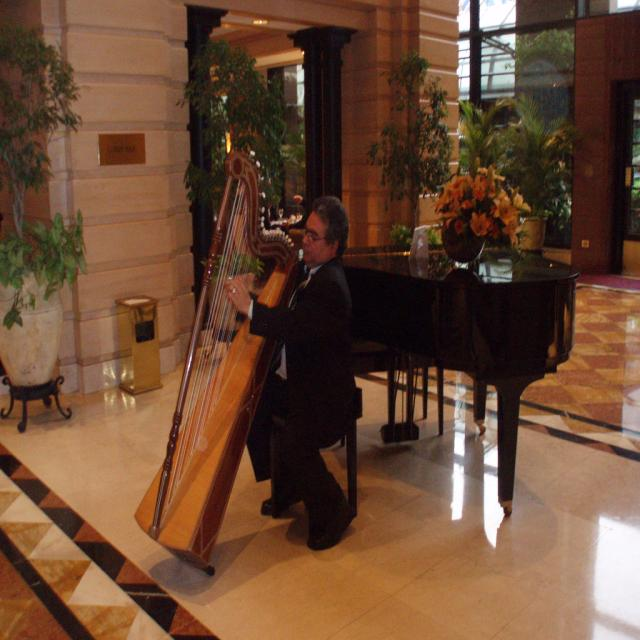harp: (134, 152, 302, 580)
